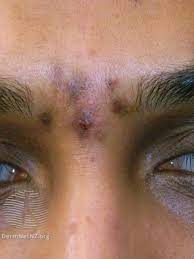Melasma: (31, 41, 140, 169)
